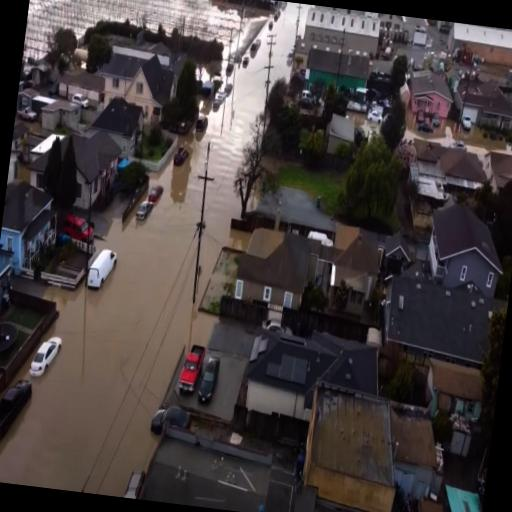flood: (0, 31, 268, 496), (63, 326, 179, 495), (23, 0, 240, 57), (270, 2, 298, 83)
house: (232, 210, 386, 318), (296, 380, 412, 512), (137, 415, 275, 512), (17, 117, 124, 213), (240, 320, 321, 430), (422, 198, 510, 290), (0, 176, 61, 281), (301, 46, 372, 112), (449, 73, 512, 145), (301, 8, 382, 62), (424, 358, 488, 420), (88, 91, 146, 159), (121, 48, 170, 124), (402, 67, 456, 125), (438, 144, 490, 188), (57, 66, 103, 104), (18, 86, 36, 110)
